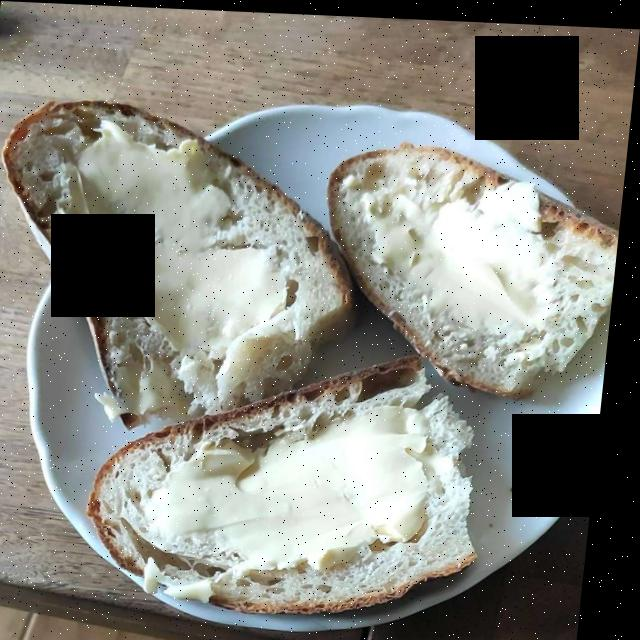bread-white: (0, 97, 623, 627)
butter: (69, 125, 557, 563)
